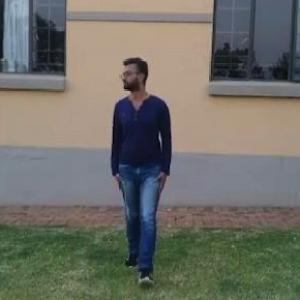follow: (104, 49, 177, 278)
